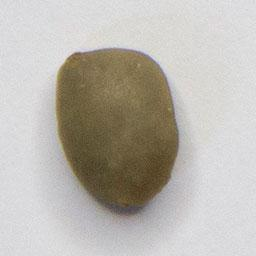premium: (51, 43, 184, 216)
